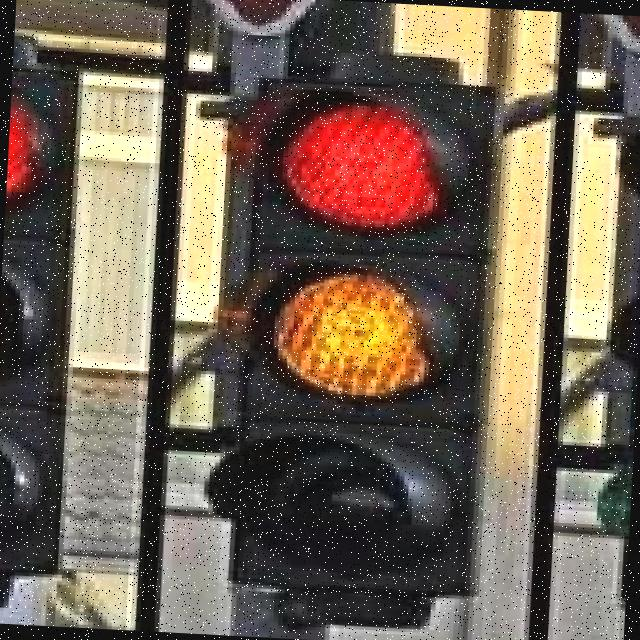Zolte swiatlo: (224, 74, 506, 597)
